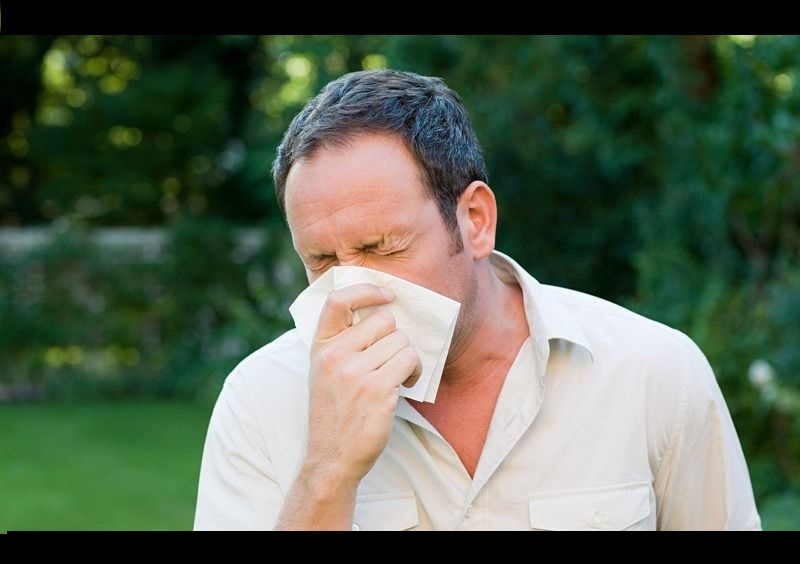face_mask: (285, 148, 462, 367)
